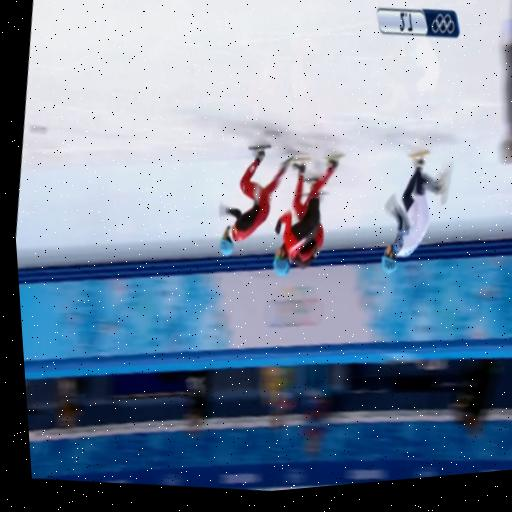Skater: (382, 151, 452, 272), (274, 154, 342, 275), (219, 145, 291, 254), (291, 222, 324, 268)
